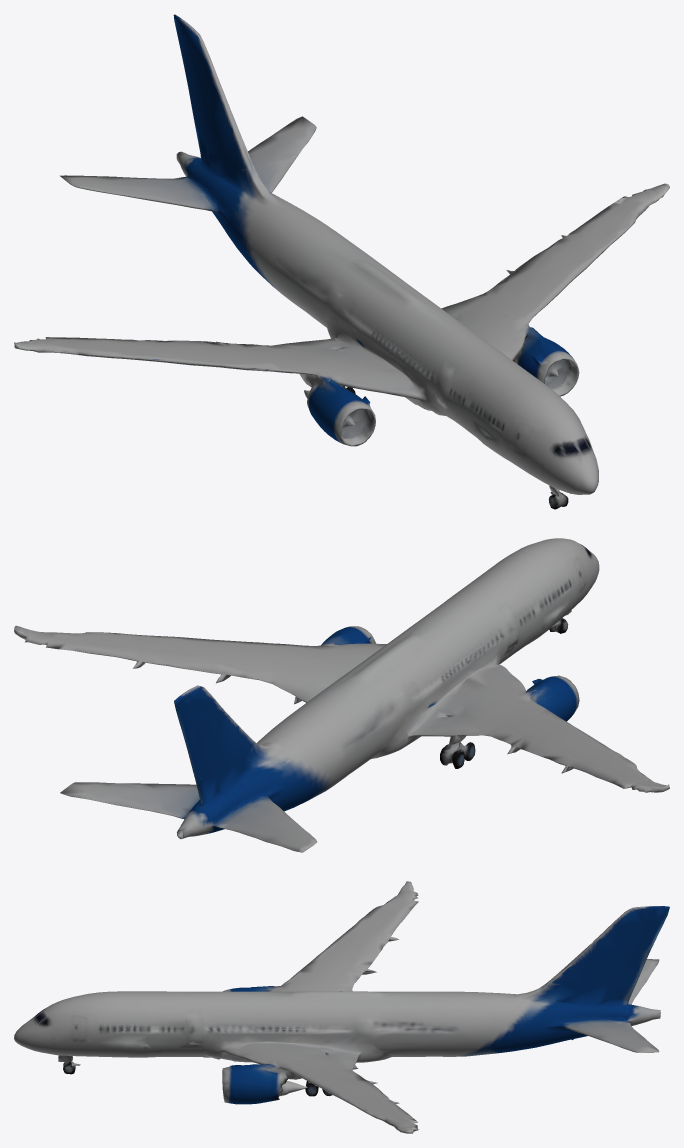
Rendered from pesawat_1.glb.
3 views of the same model, one above another, from view 1: azimuth 30°, elevation 25°; view 2: azimuth 150°, elevation 25°; view 3: azimuth 270°, elevation 25° (orthographic). The views are drawn at different scales.
Visible parts, largest first — view 1: tripo_node_ab5b049f; view 2: tripo_node_ab5b049f; view 3: tripo_node_ab5b049f.
Part boxes in pixels (left/top/right/bottom): tripo_node_ab5b049f: left=14, top=14, right=669, bottom=509; tripo_node_ab5b049f: left=14, top=538, right=669, bottom=852; tripo_node_ab5b049f: left=14, top=881, right=669, bottom=1133.
Size of the model in its own units: 90.14 by 28.01 by 99.98.
Materials: 1 (1 with a texture image).
